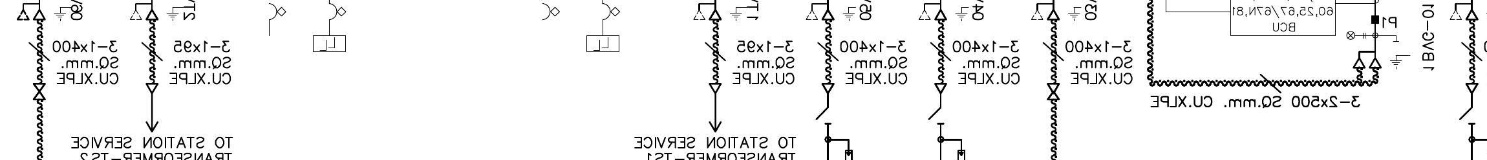22_gs: (1389, 40, 1411, 69)
22_ll: (1346, 31, 1366, 40)
LL: (312, 34, 347, 53), (585, 35, 620, 53)
terminator_double: (1352, 50, 1382, 69)
terminator_single: (144, 82, 159, 95), (933, 82, 948, 94), (708, 82, 722, 94), (821, 82, 835, 94), (1465, 82, 1479, 94)
terminator_splicing_kits: (1047, 82, 1060, 100), (33, 83, 46, 101)
terminator_w_future: (917, 2, 948, 21), (805, 2, 836, 21), (692, 2, 723, 21), (16, 2, 47, 21), (1449, 2, 1479, 21), (1030, 2, 1060, 21), (129, 2, 159, 21)
